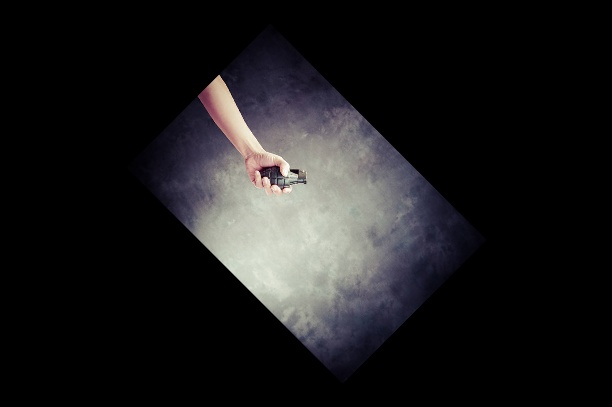e1: (253, 164, 309, 188)
